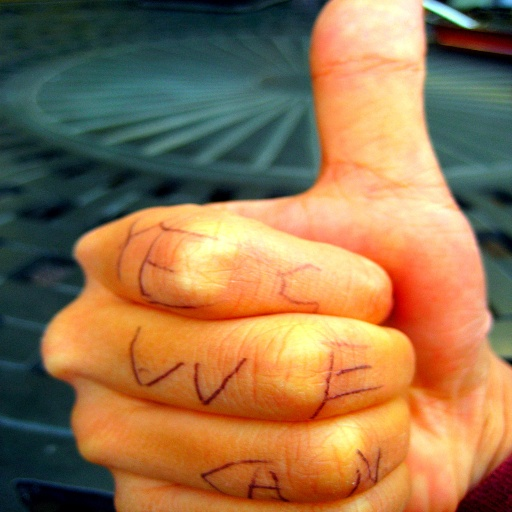hand: (38, 0, 511, 511)
